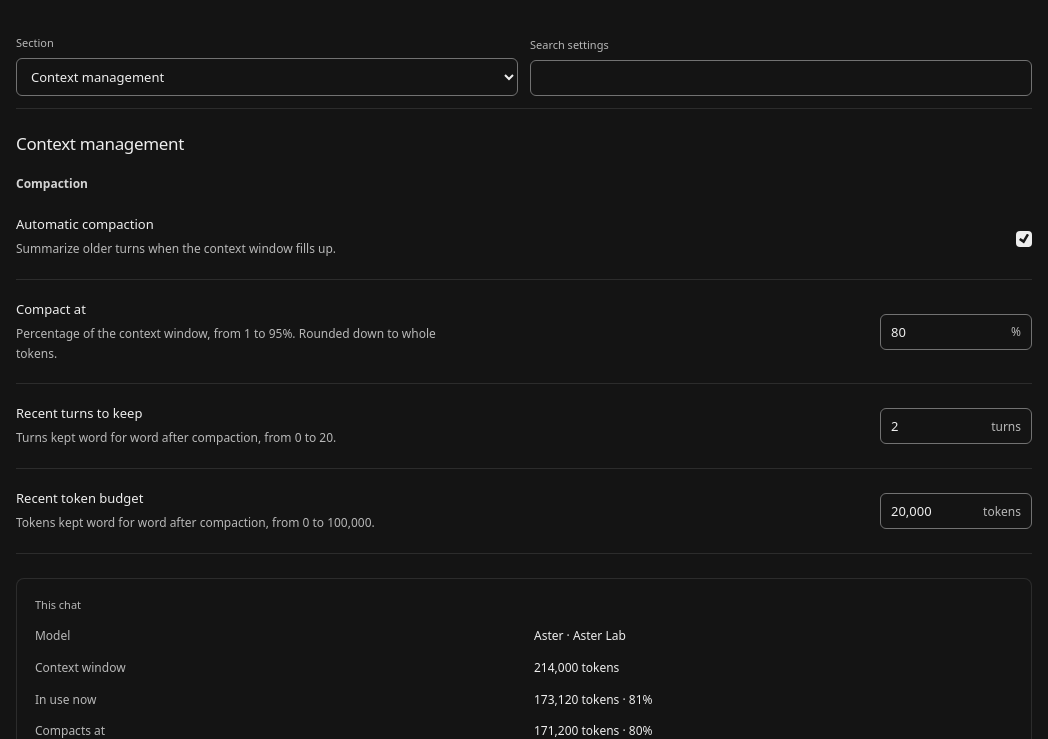
Scenario: independent Settings bodies › keeps accepting edits after an invalid context draft is corrected to the same accepted value without forwarding the no-op
Replace the text in the number field named "Compaction trigger percentage" with "90": (942, 332) [881,315,1003,349]
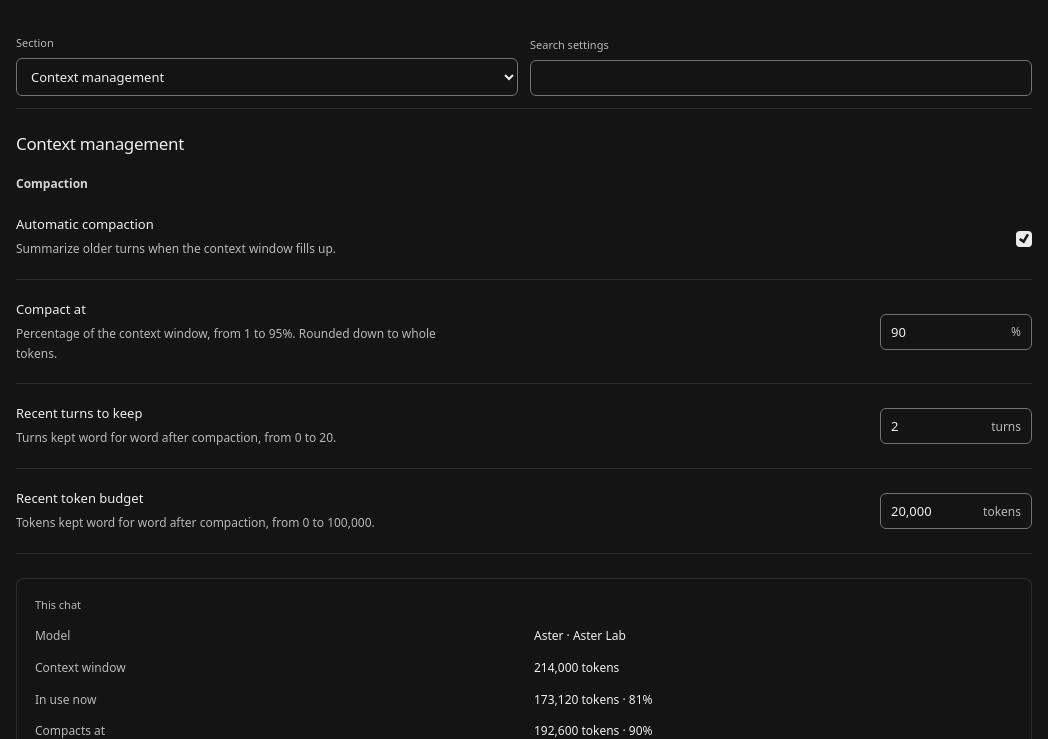
Expected: the element "This chat" shows "192,600 tokens · 90%", [534,722,652,738]
Replace the text in the number field named "Compaction trigger percentage" with "96": (942, 332) [881,315,1003,349]
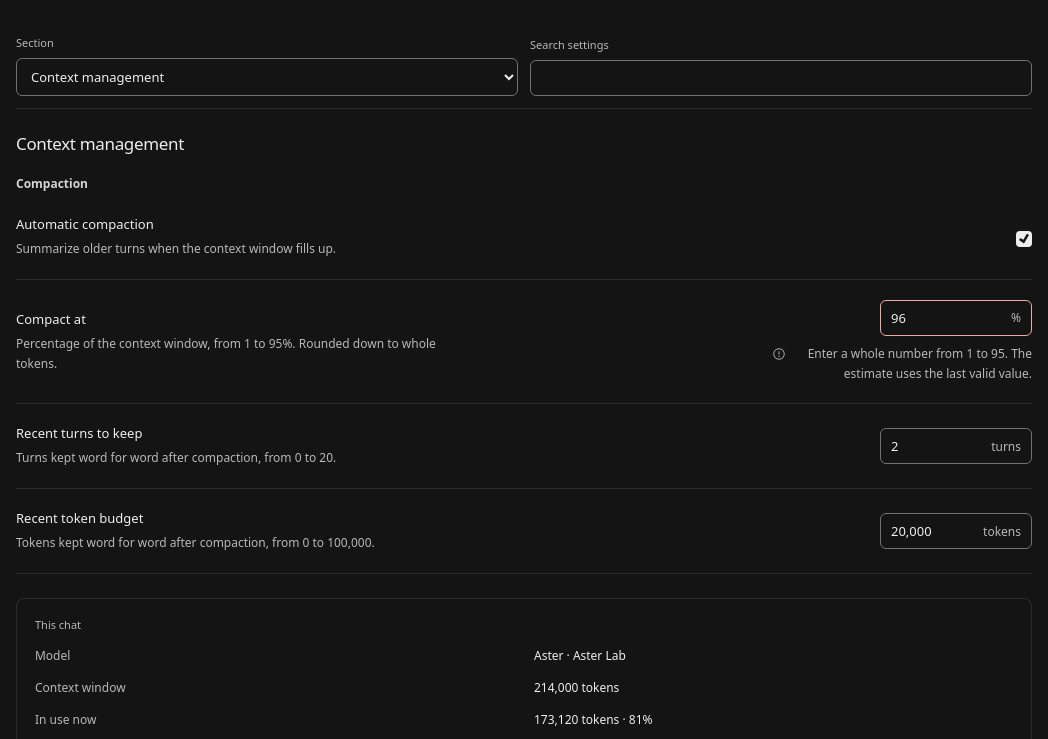
Expected: the number field named "Compaction trigger percentage" is marked as invalid
Replace the text in the number field named "Compaction trigger percentage" with "90": (942, 318) [881,301,1003,335]
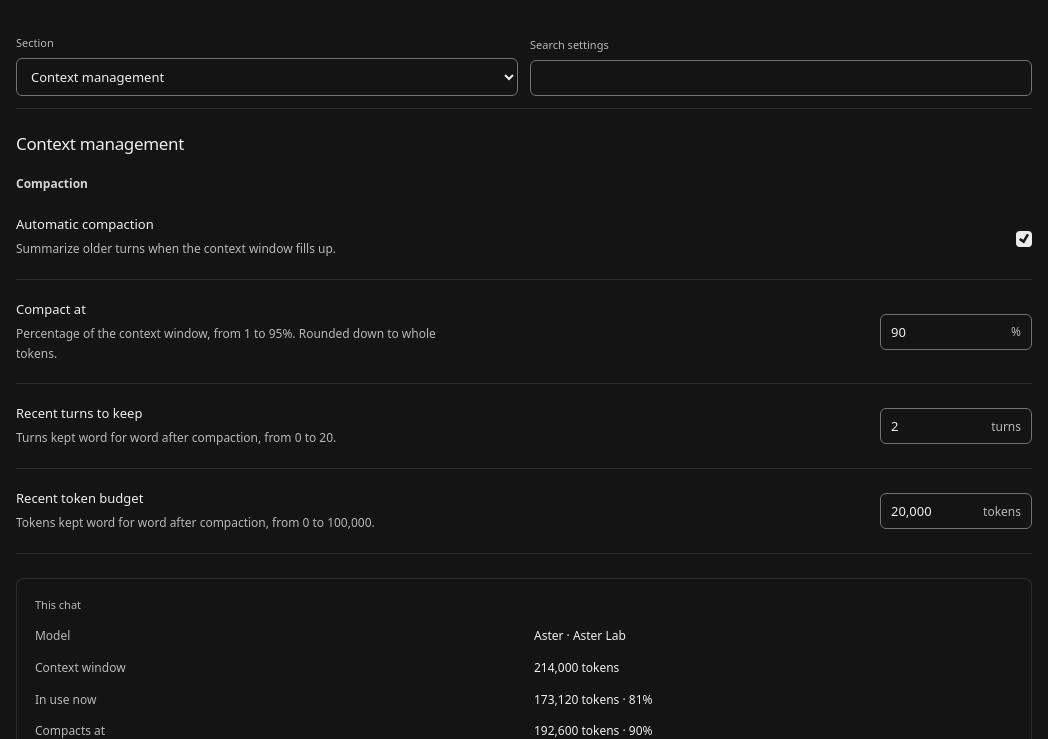
Expected: the number field named "Compaction trigger percentage" does not have attribute aria-invalid, [881,315,1003,349]
Replace the text in the number field named "Recent turns to keep" with "0": (932, 426) [881,409,983,443]
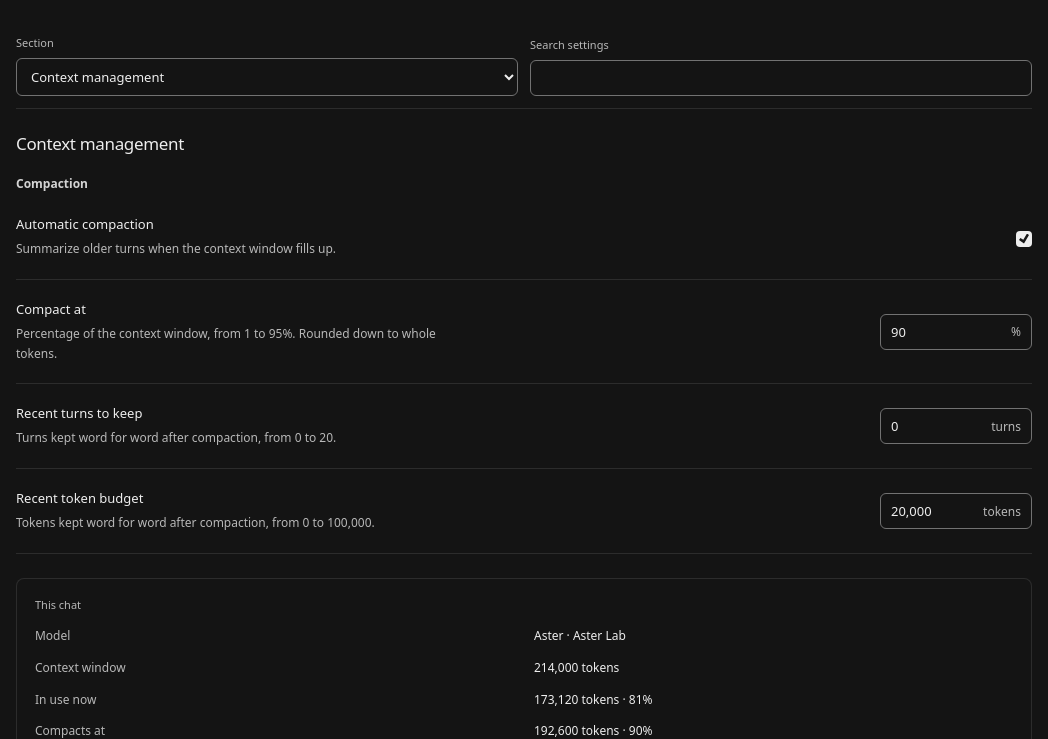
Replace the text in the field named "Recent token budget" with "0": (928, 511) [881,494,975,528]
(page scrolled)
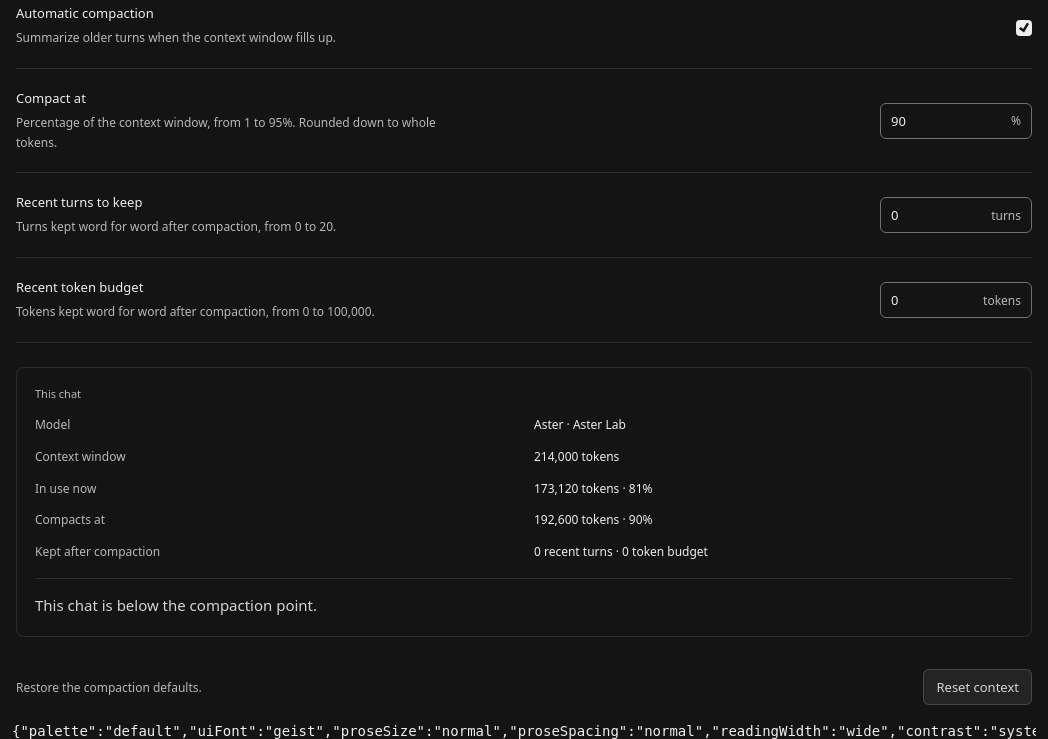
Expected: the element "This chat" shows "173,120 tokens · 81%", [534,480,652,497]
Expected: the element "This chat" shows "192,600 tokens · 90%", [534,511,652,528]
Expected: the element "This chat" shows "0 recent turns · 0 token budget", [16,367,1032,638]
